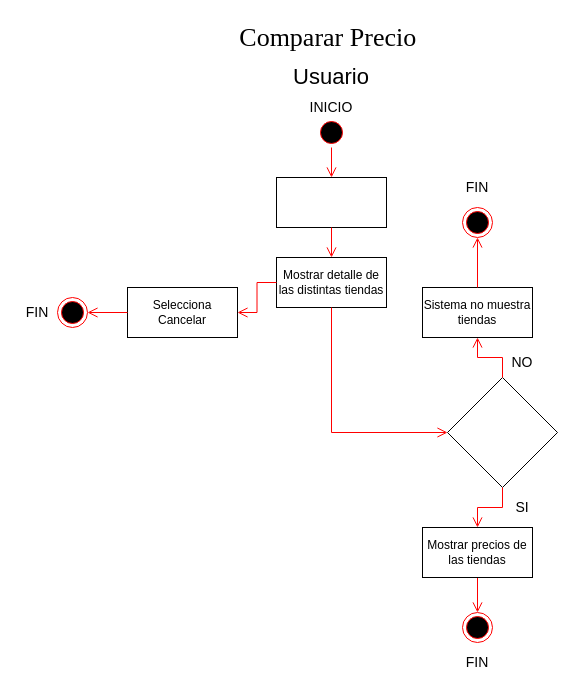
Some shapes in this 575 by 699 pixel diagram are drawn without their labels. Here are the shapes that lost their labels. From the top down, the centre of each, then its label:
(331,202): Selecciona un Producto
(502,432): ¿Existen tiendas disponibles?
